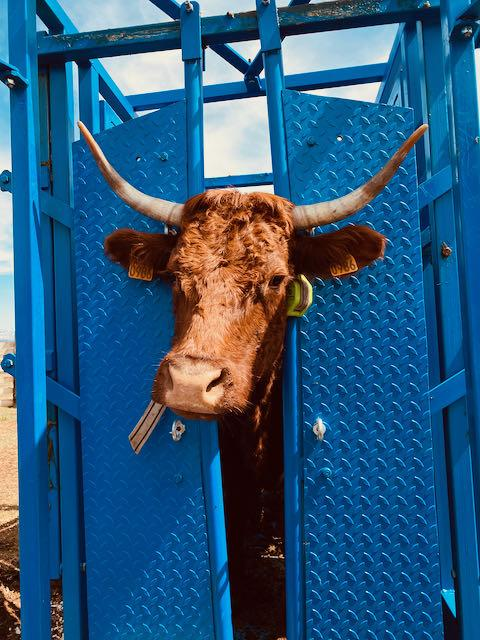muzzles: (142, 352, 250, 420)
